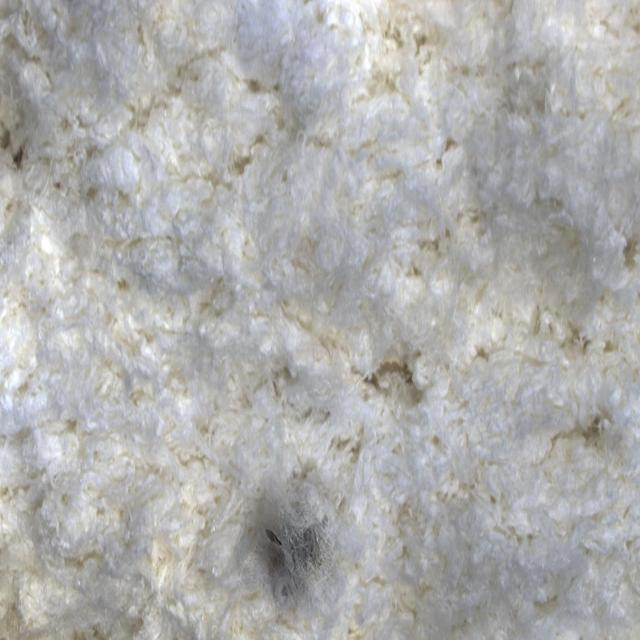dust: (176, 442, 377, 640)
